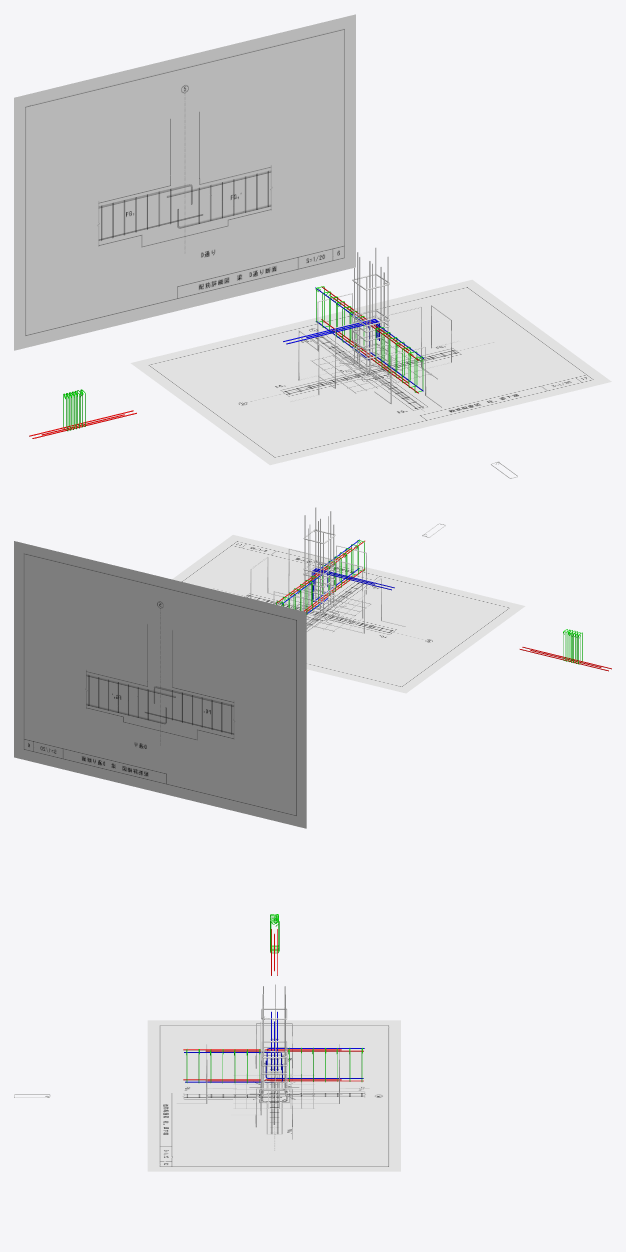
3 views of the same model, one above another, from view 1: azimuth 30°, elevation 25°; view 2: azimuth 150°, elevation 25°; view 3: azimuth 270°, elevation 25° (orthographic). The views are drawn at different scales.
Visible parts, largest first — view 1: 平面.001, 平面, 1360.012; view 2: 平面.001, 平面, 1360.012; view 3: 平面, 1360.012.
Part boxes in pixels (x1,y1,x2,y2): 平面.001: (14,14,355,350); 平面: (130,279,611,465); 1360.012: (310,342,431,393); 平面.001: (14,541,306,828); 平面: (172,535,525,693); 1360.012: (282,588,371,632); 平面: (147,1020,400,1171); 1360.012: (233,1073,315,1108).
Size of the model in its own units: 8875 by 4200 by 9918.
Materials: 9 (2 with a texture image).
